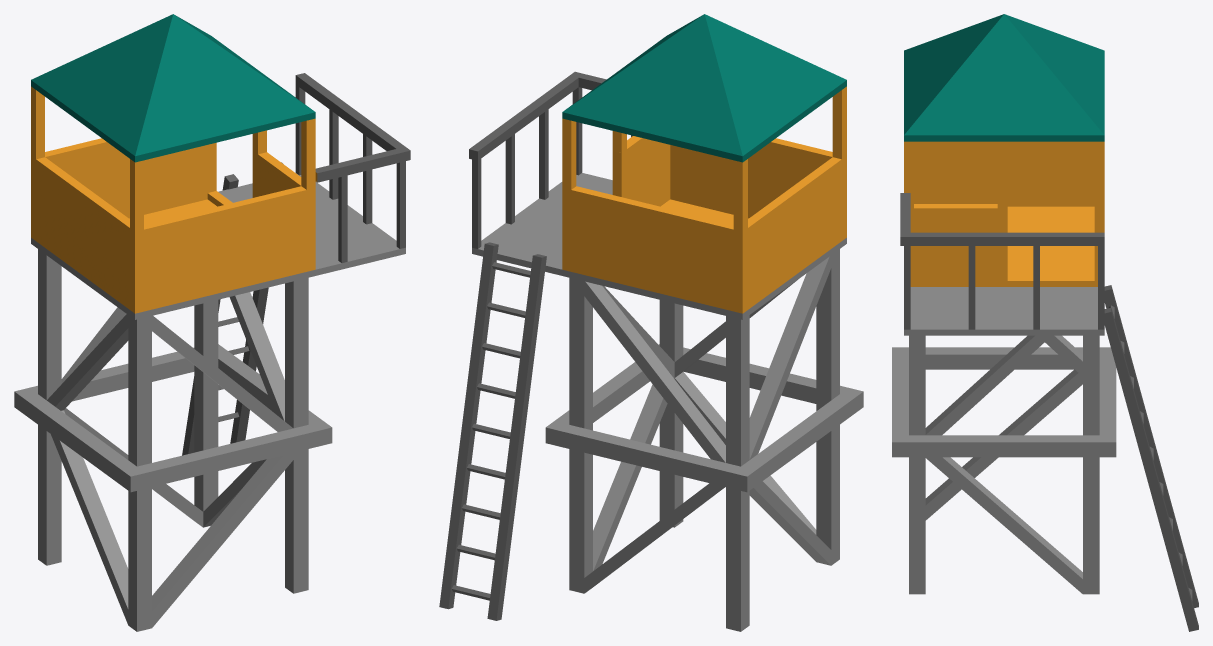
The model's file is Tower1.fbx.
3 views of the same model, side by side, from view 1: azimuth 30°, elevation 25°; view 2: azimuth 150°, elevation 25°; view 3: azimuth 270°, elevation 25° (orthographic). The views are drawn at different scales.
Visible parts, largest first — view 1: Tower, Ladder; view 2: Tower, Ladder; view 3: Tower, Ladder.
Boxes of the visible parts, left/top/right/bottom form: Tower: left=14, top=14, right=410, bottom=631; Ladder: left=182, top=162, right=282, bottom=455; Tower: left=469, top=14, right=863, bottom=631; Ladder: left=439, top=242, right=546, bottom=620; Tower: left=892, top=14, right=1116, bottom=594; Ladder: left=1104, top=285, right=1198, bottom=631.
Bounding box in the file's own units: 473 × 891 × 458.
